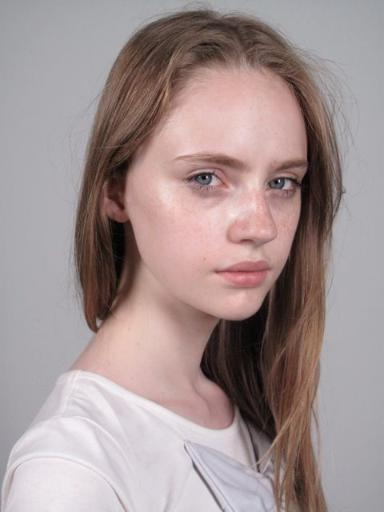left_eye: (267, 176, 301, 198)
left_lip_corner: (265, 265, 276, 277)
right_eye: (184, 170, 232, 194)
right_lip_corner: (211, 266, 225, 281)
